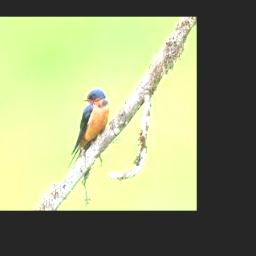Swallow: (68, 89, 110, 170)
